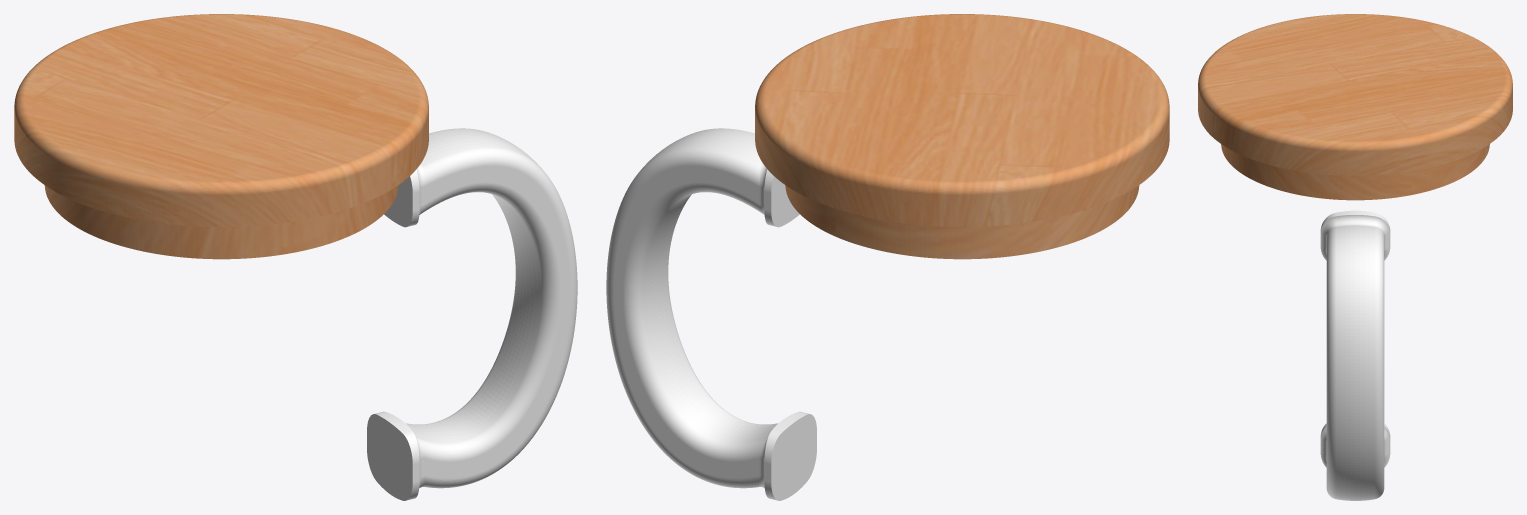
The model's file is lid.glb.
3 views of the same model, side by side, from view 1: azimuth 30°, elevation 25°; view 2: azimuth 150°, elevation 25°; view 3: azimuth 270°, elevation 25° (orthographic). The views are drawn at different scales.
Visible parts, largest first — view 1: lid, handle-01; view 2: lid, handle-01; view 3: lid, handle-01.
Part boxes in pixels (x1,y1,x2,y2): lid: [14, 14, 428, 259]; handle-01: [367, 128, 577, 500]; lid: [755, 14, 1169, 259]; handle-01: [606, 128, 816, 500]; lid: [1198, 14, 1512, 200]; handle-01: [1320, 210, 1390, 500].
Bounding box in the file's own units: 120 × 95.37 × 82.
2 materials, 2 textured.
